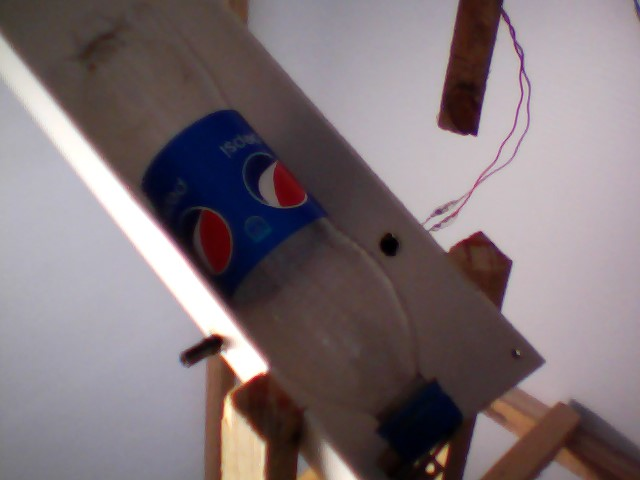plastico: (39, 1, 468, 472)
